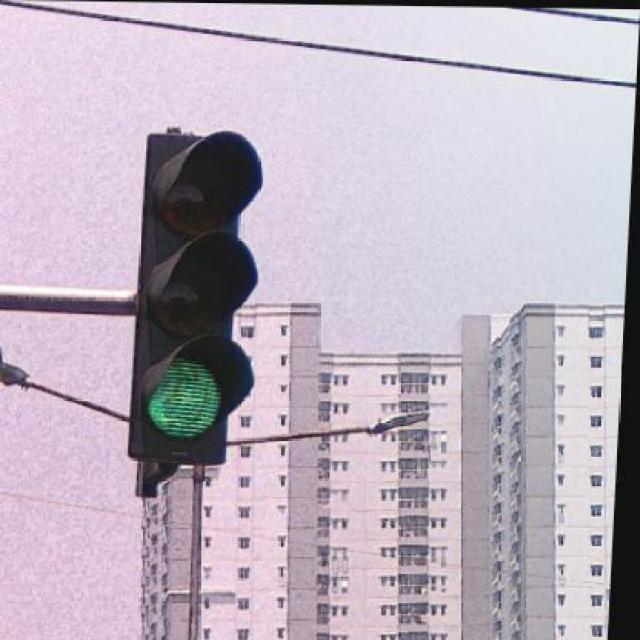traffic light: (128, 131, 263, 469)
